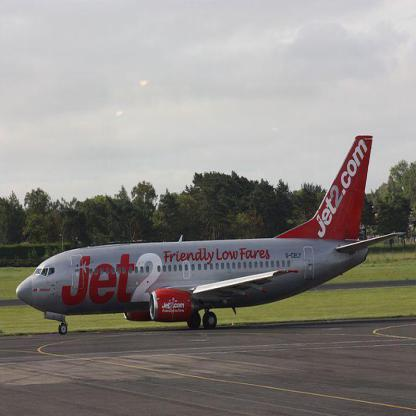CIV_Plane: (7, 132, 407, 338)
